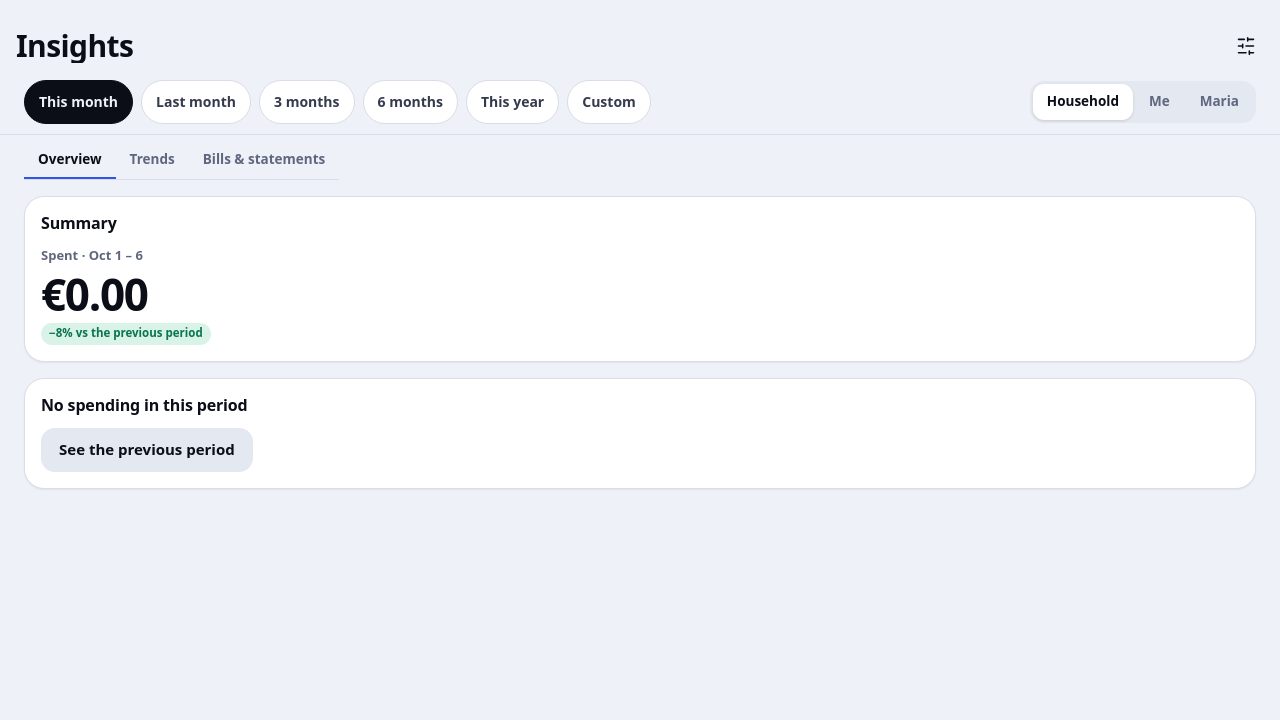
F2: an empty period still shows the Bills card (phone) and panel (desktop)
Expected: the heading "No spending in this period" is shown, [41,395,248,416]
Click the tab "Bills & statements" at x=264, y=161, box [189,143,339,179]
(page scrolled)
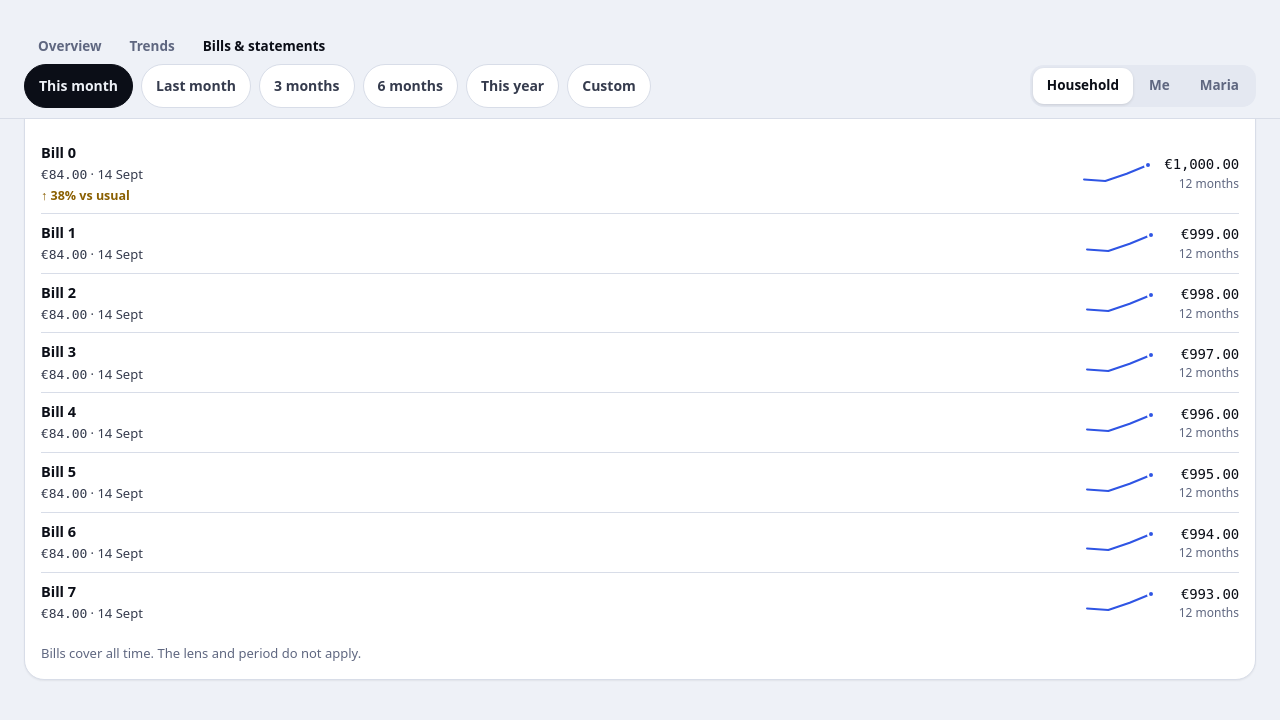
Result: the element "Bills" is shown
